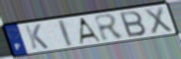A: (78, 16, 103, 45)
B: (118, 10, 148, 38)
I: (56, 18, 74, 48)
K: (23, 23, 51, 50)
R: (93, 13, 127, 43)
X: (142, 6, 174, 36)
